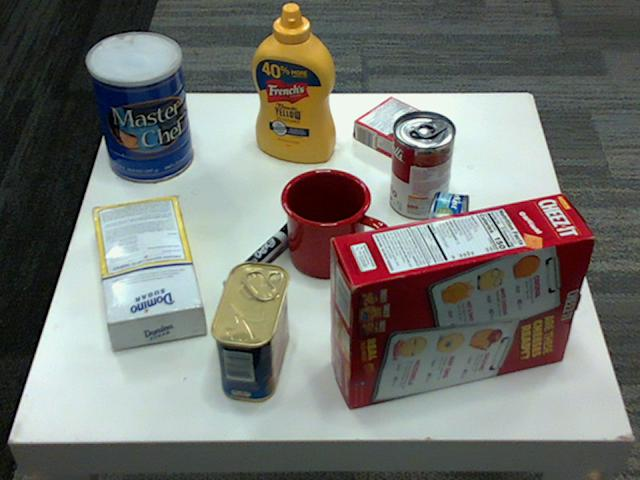cracker_box: (331, 191, 593, 406)
gelatin_box: (355, 96, 446, 163)
large_marker: (220, 220, 299, 298)
master_chef_can: (84, 32, 191, 182)
mug: (279, 165, 387, 275)
mustard_bottle: (251, 4, 335, 162)
potted_meat_can: (211, 261, 290, 402)
sugar_box: (91, 192, 205, 345)
tomato_soup_can: (388, 111, 454, 219)
tuna_fish_can: (422, 190, 468, 275)
